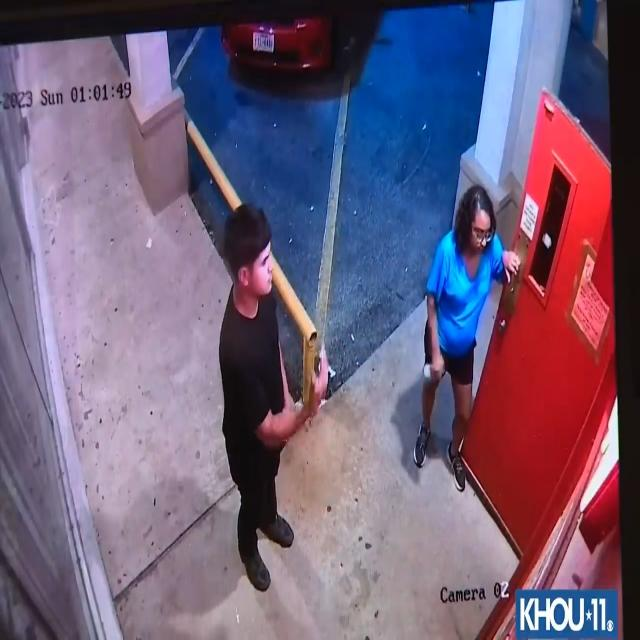Person: (210, 202, 328, 604), (411, 178, 520, 493)
